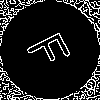F: (25, 25, 80, 73)
